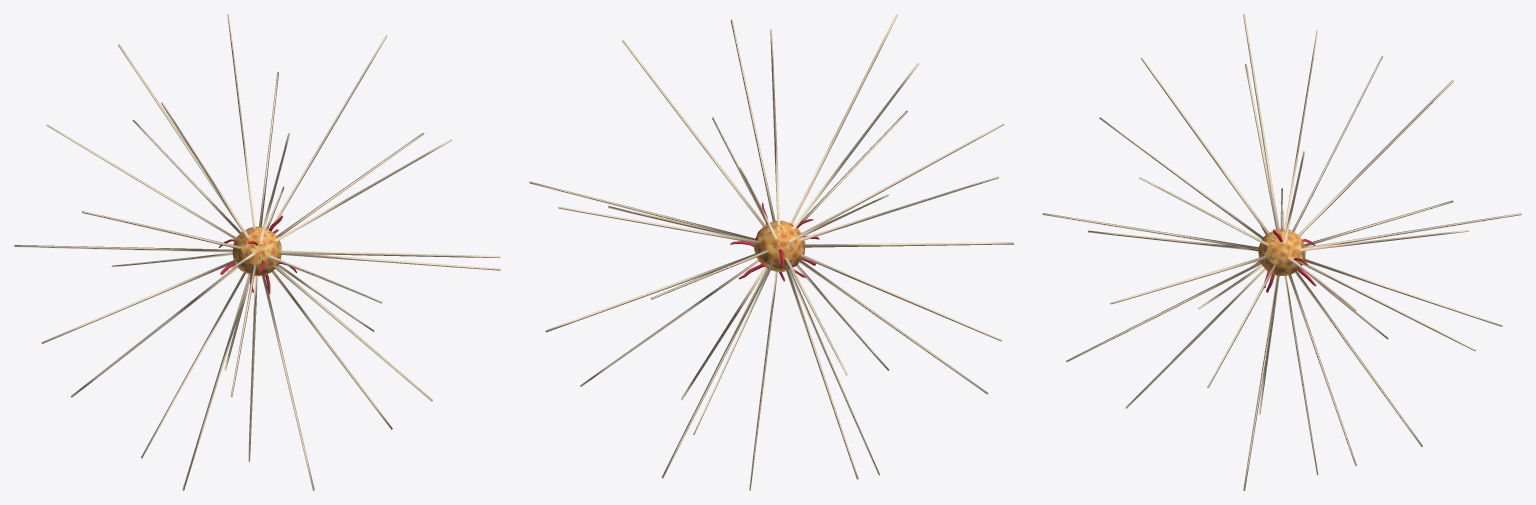
File: dandeSiphonophore_ShaderTest.fbx
3 renders of one model, left to right at view 1: azimuth 30°, elevation 25°; view 2: azimuth 150°, elevation 25°; view 3: azimuth 270°, elevation 25°, orthographic. The views are drawn at different scales.
Parts seen in each view (by area): view 1: dandelionSiph_final; view 2: dandelionSiph_final; view 3: dandelionSiph_final.
Part boxes in pixels (x1=…): dandelionSiph_final: x1=14, y1=14, x2=500, y2=490; dandelionSiph_final: x1=529, y1=14, x2=1013, y2=490; dandelionSiph_final: x1=1042, y1=14, x2=1521, y2=490.
Bounding box in the file's own units: 237 × 243 × 243.
